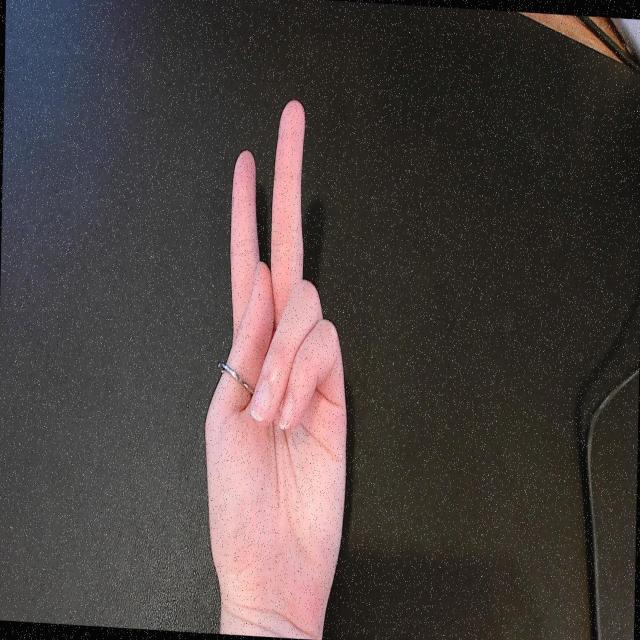K: (196, 89, 358, 626)
